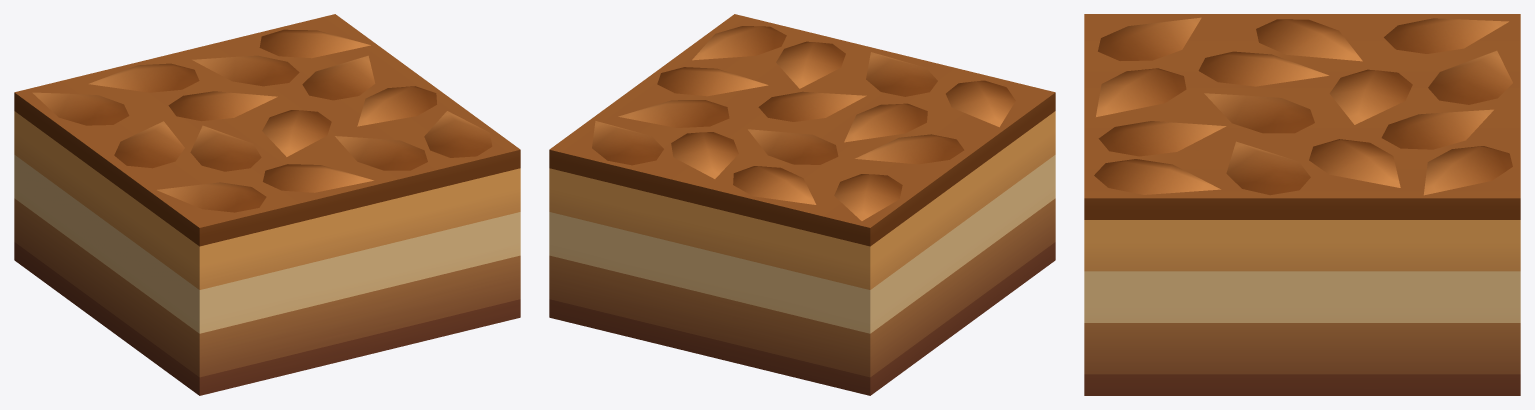
Rendered from m_Bienenstich02_Slice03.fbx.
3 views of the same model, side by side, from view 1: azimuth 30°, elevation 25°; view 2: azimuth 150°, elevation 25°; view 3: azimuth 270°, elevation 25° (orthographic). The views are drawn at different scales.
Visible parts, largest first — view 1: m_Bienenstich02_Slice03; view 2: m_Bienenstich02_Slice03; view 3: m_Bienenstich02_Slice03.
Part boxes in pixels (x1,y1,x2,y2): m_Bienenstich02_Slice03: (14, 14, 520, 395); m_Bienenstich02_Slice03: (549, 14, 1055, 395); m_Bienenstich02_Slice03: (1084, 14, 1520, 395).
Size of the model in its own units: 10 by 5.3 by 10.
